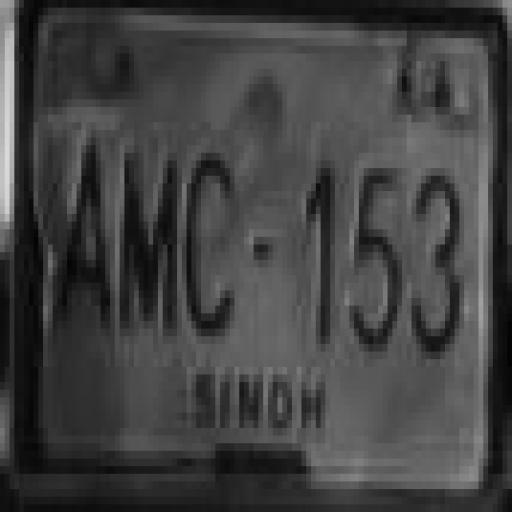1: (306, 162, 336, 344)
3: (406, 148, 468, 371)
5: (342, 157, 402, 358)
A: (50, 126, 112, 338)
C: (184, 148, 241, 342)
M: (122, 144, 179, 337)
